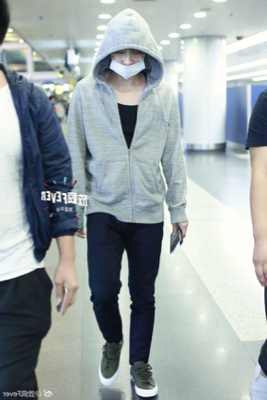mask_weared_incorrect: (109, 47, 146, 80)
